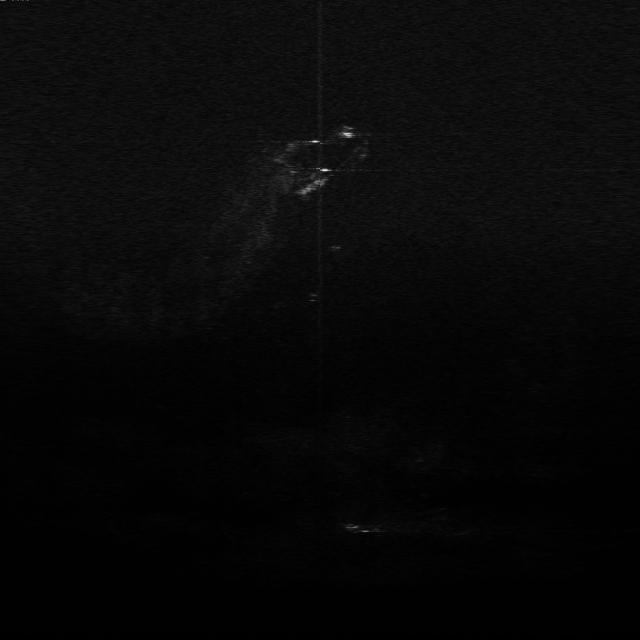rov: (336, 124, 360, 141)
